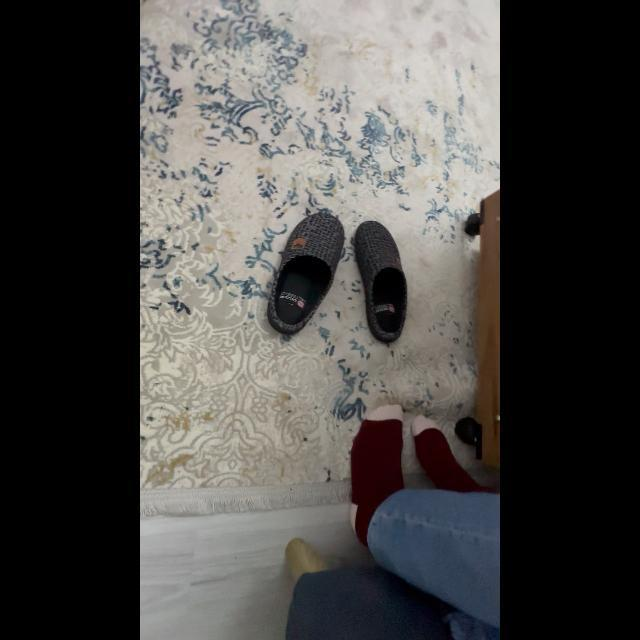slipper: (259, 206, 347, 338), (349, 214, 415, 346)
